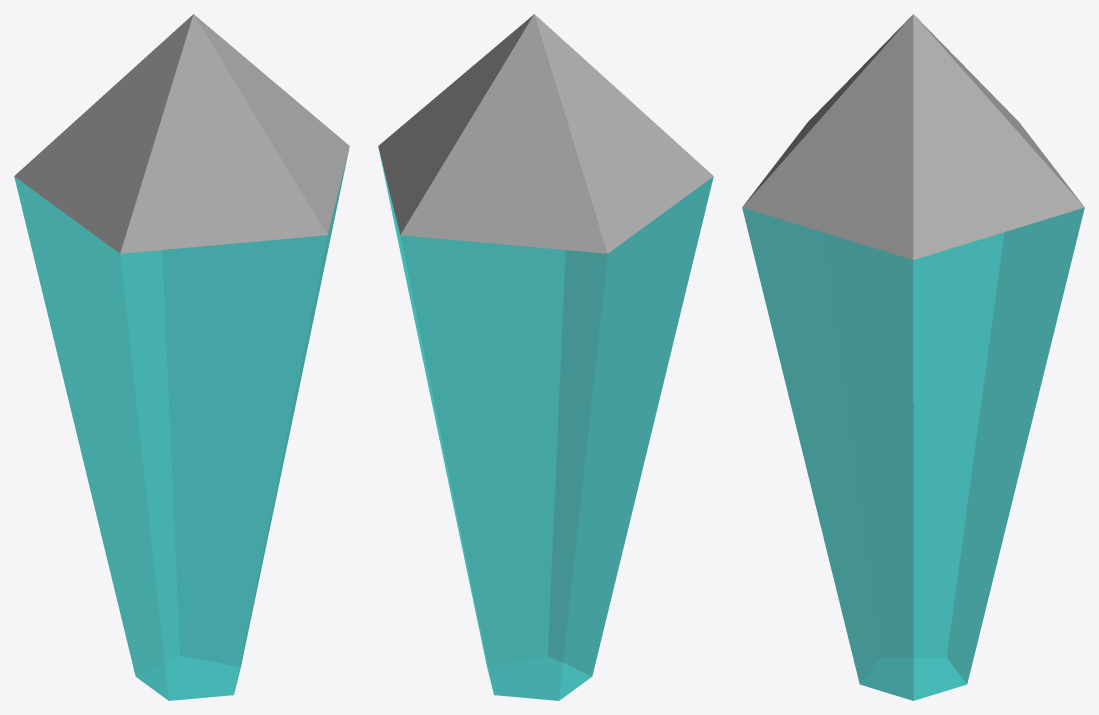
Rendered from SmallSingleCrystal.fbx.
The picture shows the model from 3 angles, left to right: view 1: azimuth 30°, elevation 25°; view 2: azimuth 150°, elevation 25°; view 3: azimuth 270°, elevation 25°; orthographic projection.
Parts seen in each view (by area): view 1: pPyramid2; view 2: pPyramid2; view 3: pPyramid2.
Part boxes in pixels (x1,y1,x2,y2): pPyramid2: (14, 14, 349, 700); pPyramid2: (378, 14, 713, 700); pPyramid2: (742, 14, 1084, 700).
Size of the model in its own units: 1.85 by 4.15 by 1.94.
